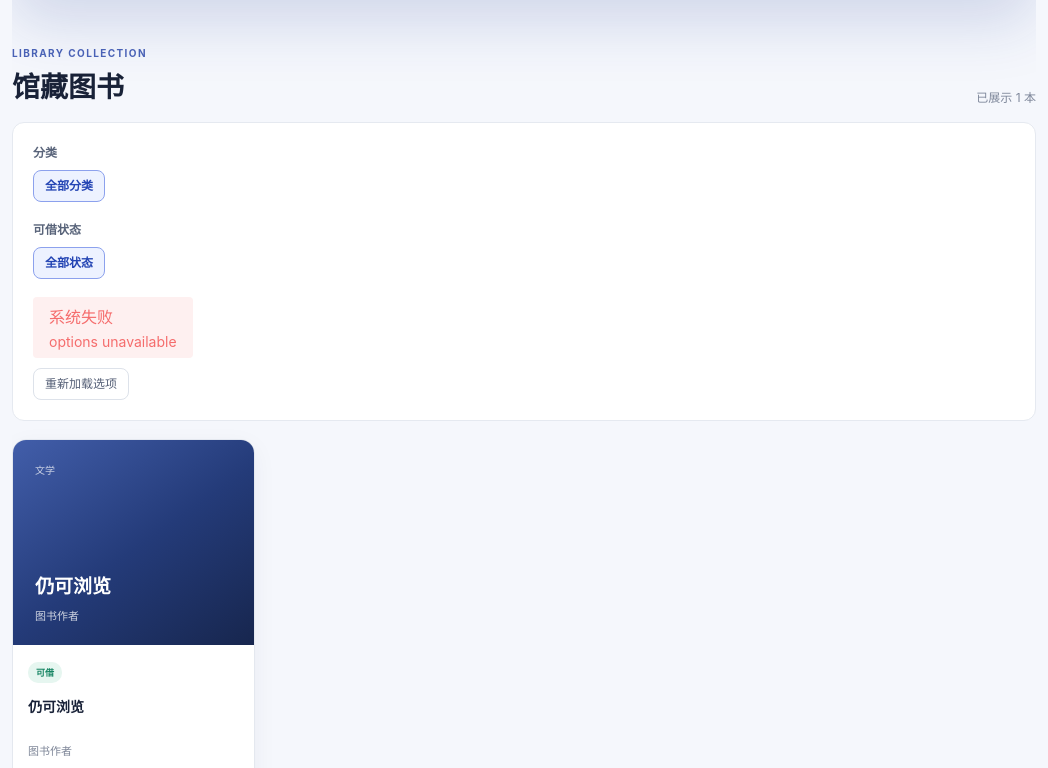
Test: HomePage › retries discovery separately while the feed remains usable
(page scrolled)
Expected: the element with test id "home-discovery-error" is shown, [33,297,193,400]
Click the button with test id "home-discovery-retry" at (81, 384), box [33,368,129,400]
(page scrolled)
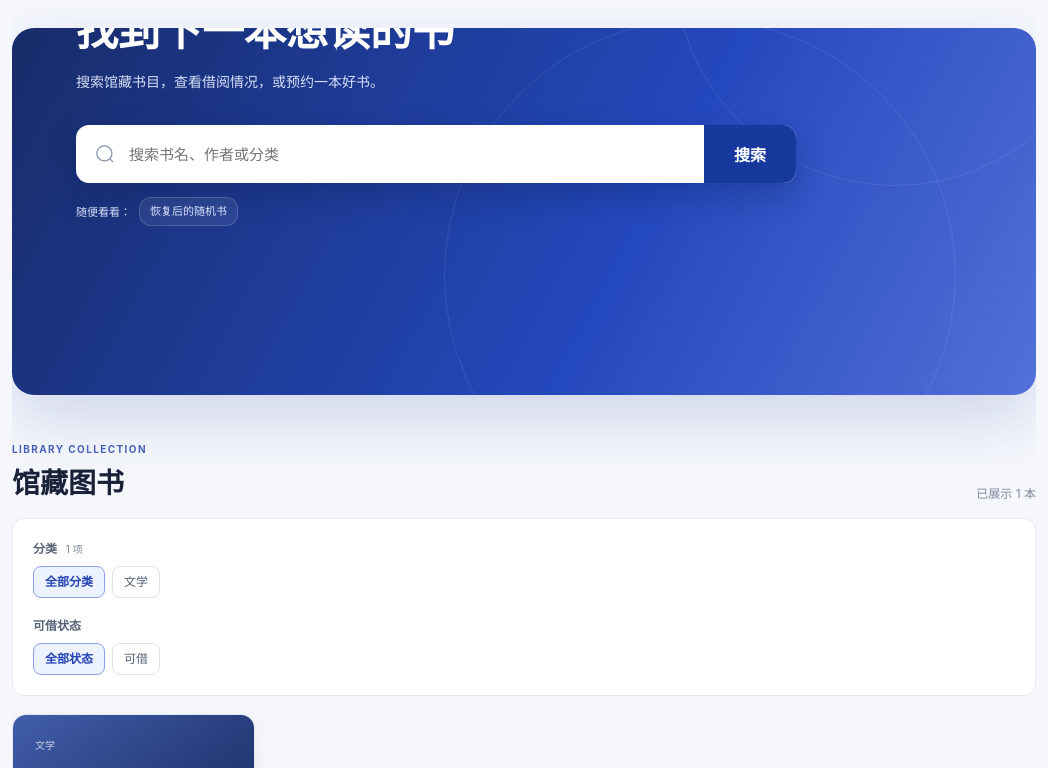
Expected: the link with test id "home-suggestion" reads "恢复后的随机书", [139,197,238,226]
